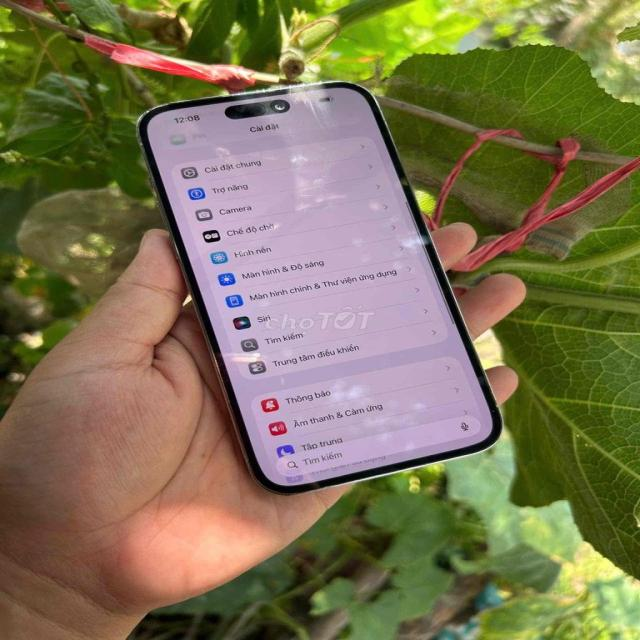gen_14: (135, 80, 516, 502)
scratch: (131, 90, 251, 120)
